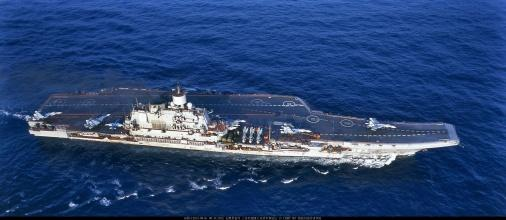warship: (16, 85, 460, 163)
